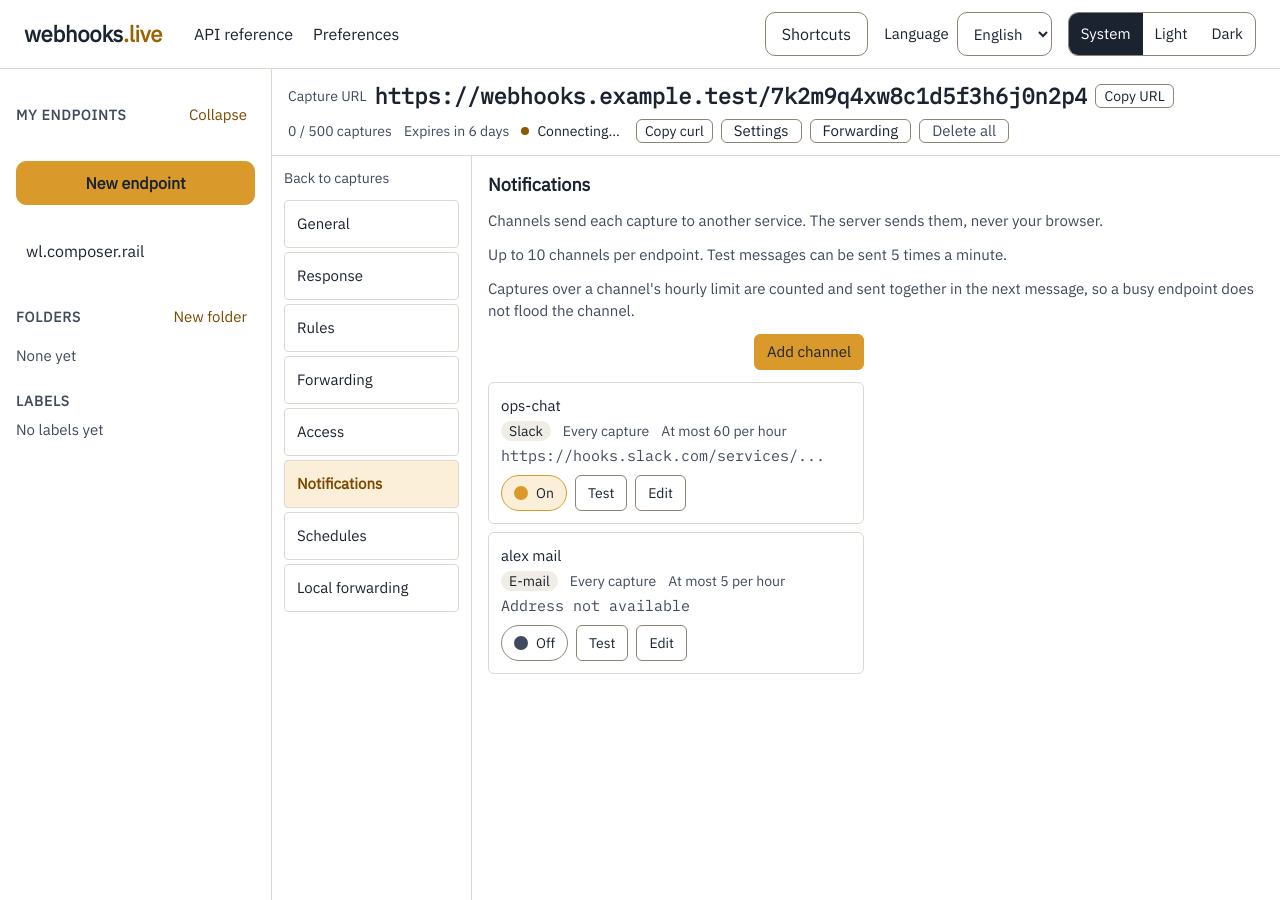
Scenario: notifications section › shows a successful test inline with its time
Click the button with aria-label "Send a test to ops-chat" at [601, 493], box [575,475,627,511]
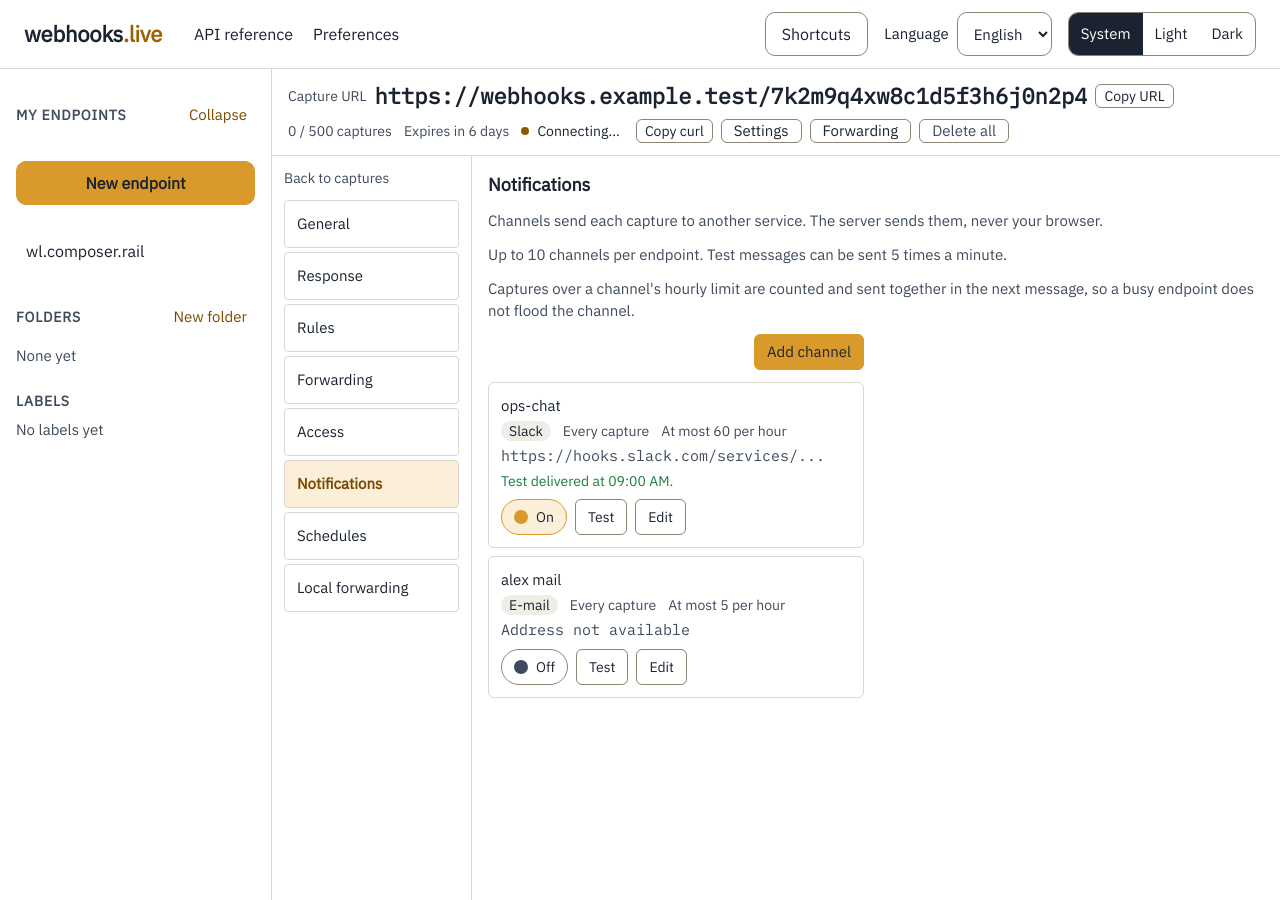
Check: the text "Test delivered at 09:00 AM." is shown, box [501,472,673,490]
